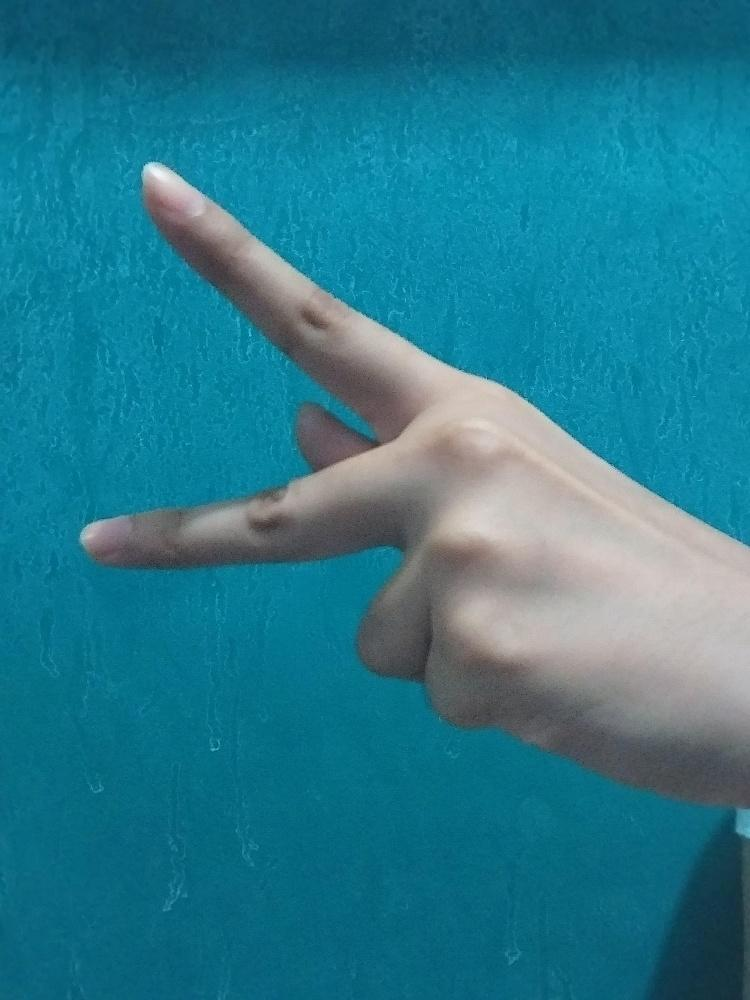k: (69, 158, 749, 798)
